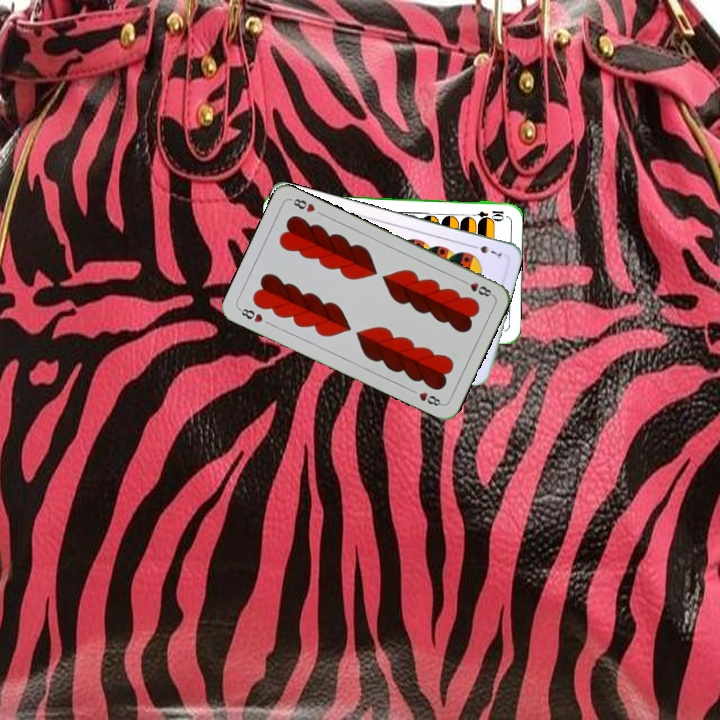E10: (466, 207, 507, 221)
H8: (457, 276, 495, 299), (235, 304, 266, 325)
S7: (467, 241, 505, 262)
